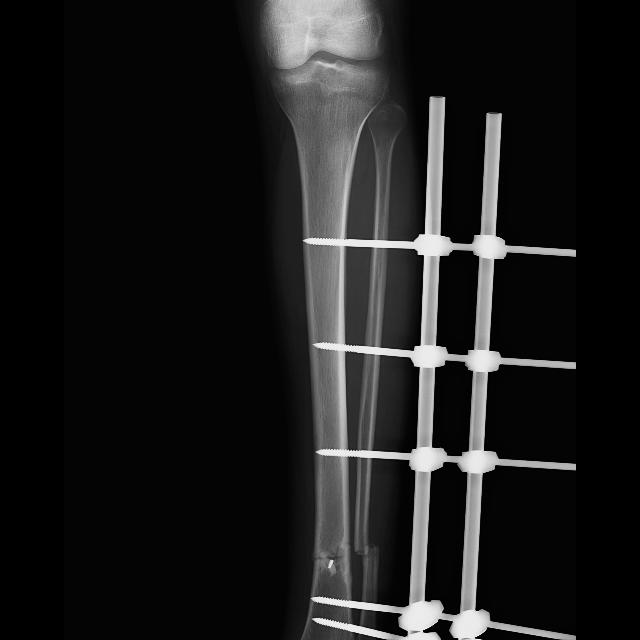Fracture: (311, 531, 352, 591), (353, 532, 381, 575)
